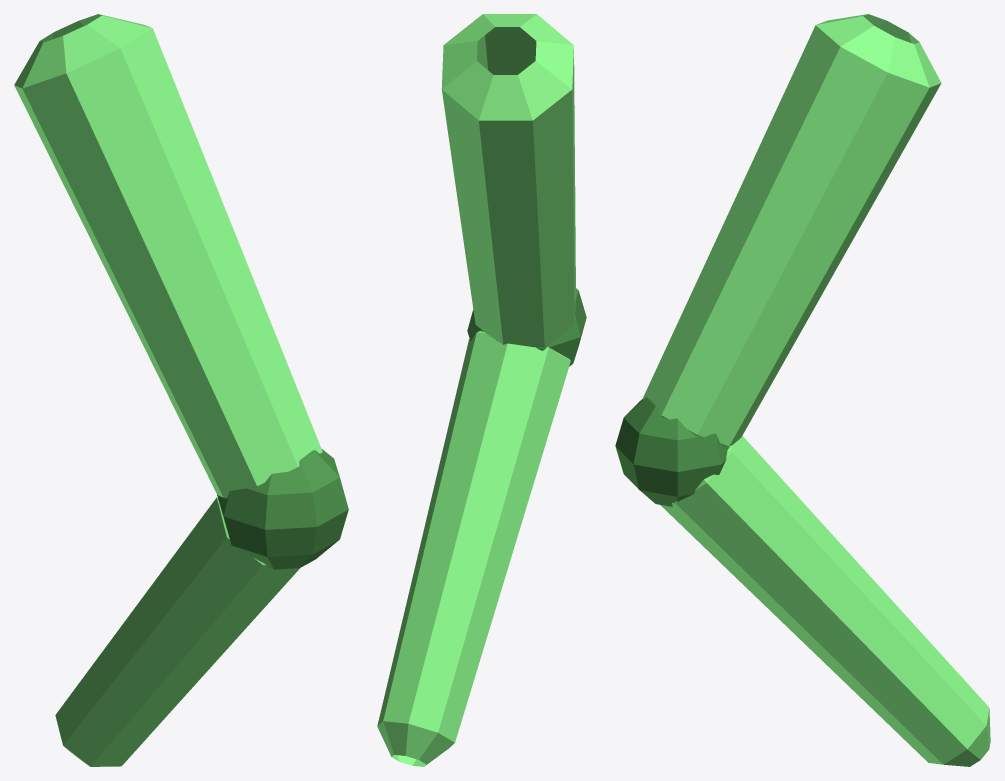
Rendered from imp_scurrier_leg_R.obj.
3 views of the same model, side by side, from view 1: azimuth 30°, elevation 25°; view 2: azimuth 150°, elevation 25°; view 3: azimuth 270°, elevation 25° (orthographic). The views are drawn at different scales.
Visible parts, largest first — view 1: leg_upper_R, leg_lower_R, leg_joint_R; view 2: leg_lower_R, leg_upper_R, leg_joint_R; view 3: leg_upper_R, leg_lower_R, leg_joint_R.
Part boxes in pixels (box(x1,y1,x2,y2)): leg_upper_R: box(14, 14, 322, 498); leg_lower_R: box(55, 496, 299, 766); leg_joint_R: box(217, 448, 348, 569); leg_lower_R: box(377, 330, 570, 766); leg_upper_R: box(441, 14, 575, 347); leg_joint_R: box(467, 288, 586, 366); leg_upper_R: box(642, 14, 941, 447); leg_lower_R: box(660, 436, 990, 766); leg_joint_R: box(615, 397, 729, 506).
Bounding box in the file's own units: 0.1694 × 0.5979 × 0.2817.
